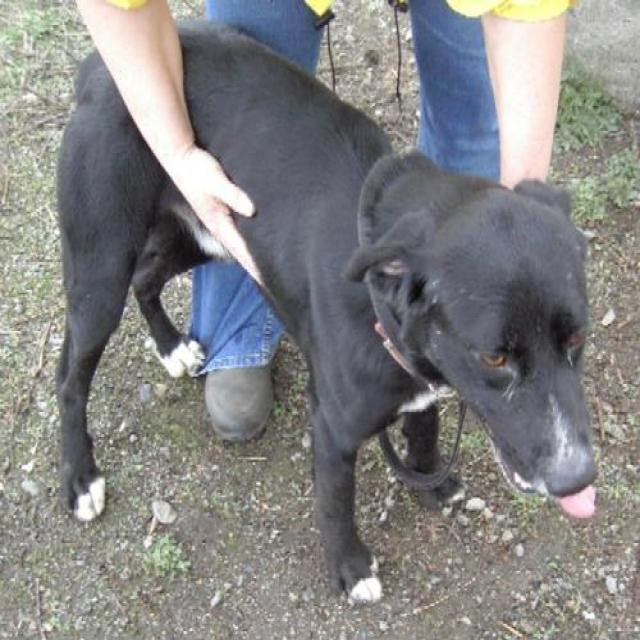Dogs: (52, 16, 598, 605)
